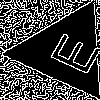E: (39, 26, 100, 77)
